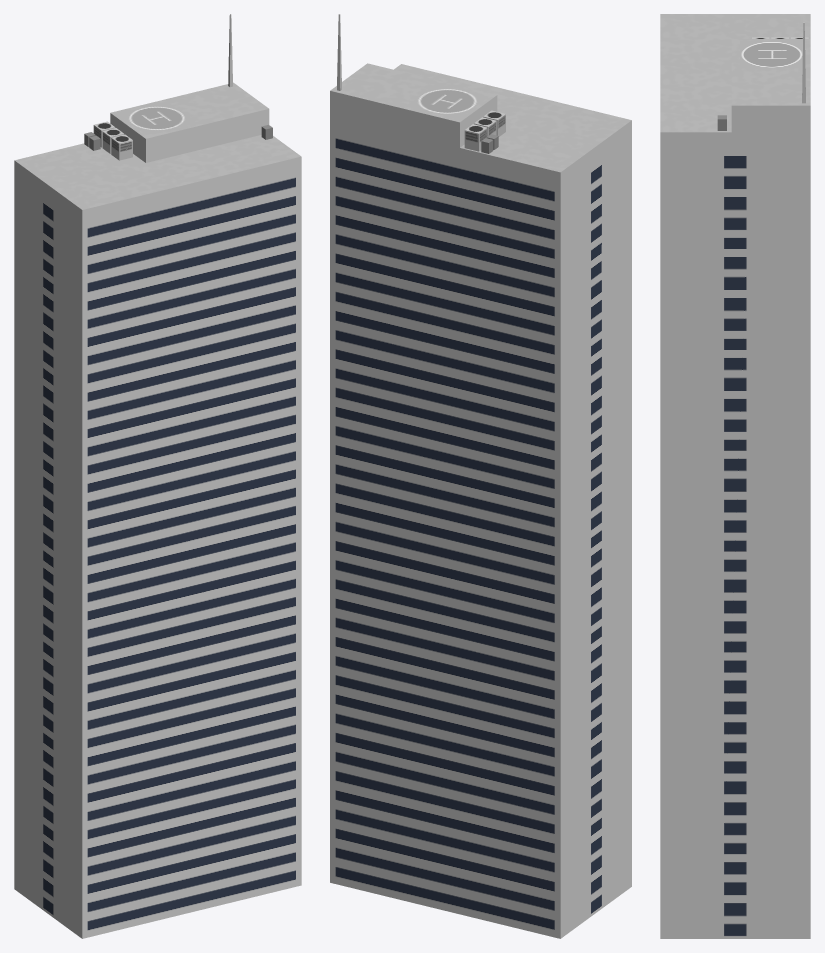
Rendered from Building_H_W2_001.fbx.
3 views of the same model, side by side, from view 1: azimuth 30°, elevation 25°; view 2: azimuth 150°, elevation 25°; view 3: azimuth 270°, elevation 25° (orthographic). The views are drawn at different scales.
Visible parts, largest first — view 1: Building_H_W2_001; view 2: Building_H_W2_001; view 3: Building_H_W2_001.
Part boxes in pixels (left/top/right/bottom): Building_H_W2_001: left=14, top=14, right=301, bottom=938; Building_H_W2_001: left=330, top=14, right=631, bottom=938; Building_H_W2_001: left=660, top=14, right=810, bottom=938.
Bounding box in the file's own units: 55.46 × 199 × 29.75.
